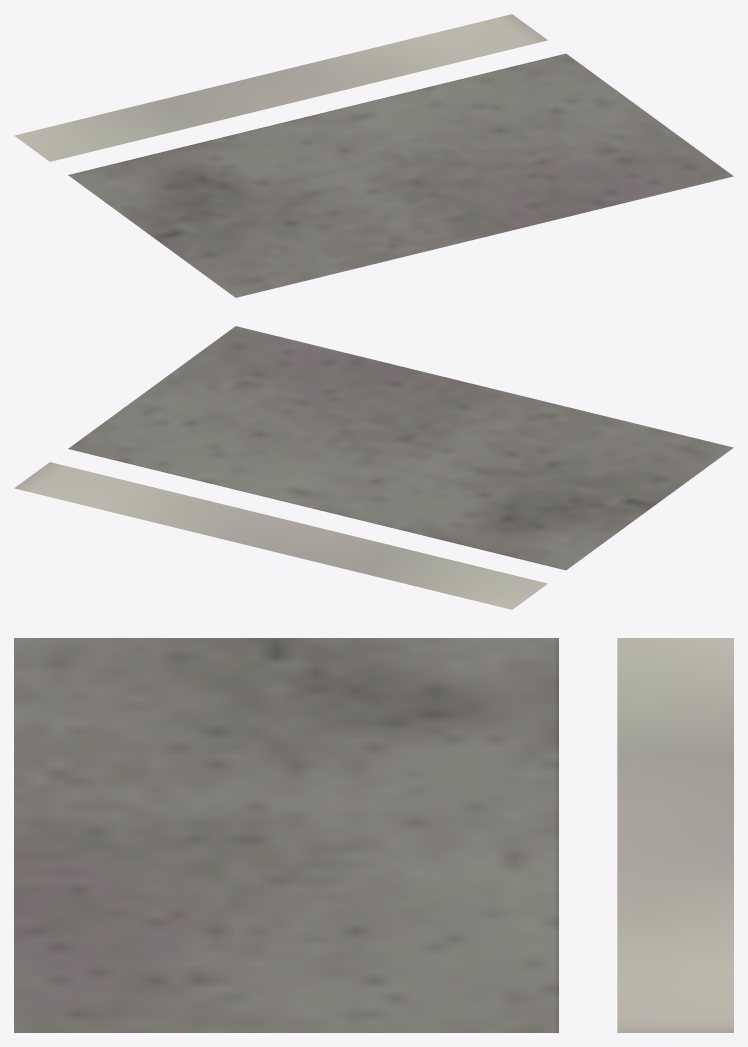
Rendered from marking_stop.fbx.
3 renders of one model, top to bottom at view 1: azimuth 30°, elevation 25°; view 2: azimuth 150°, elevation 25°; view 3: azimuth 270°, elevation 25°, orthographic. The views are drawn at different scales.
Parts seen in each view (by area): view 1: marking_stop; view 2: marking_stop; view 3: marking_stop.
Part boxes in pixels (<box>): marking_stop: <box>14,14,733,297</box>; marking_stop: <box>14,326,733,609</box>; marking_stop: <box>14,638,733,1032</box>.
Size of the model in its own units: 2.4 by 0 by 1.85.
